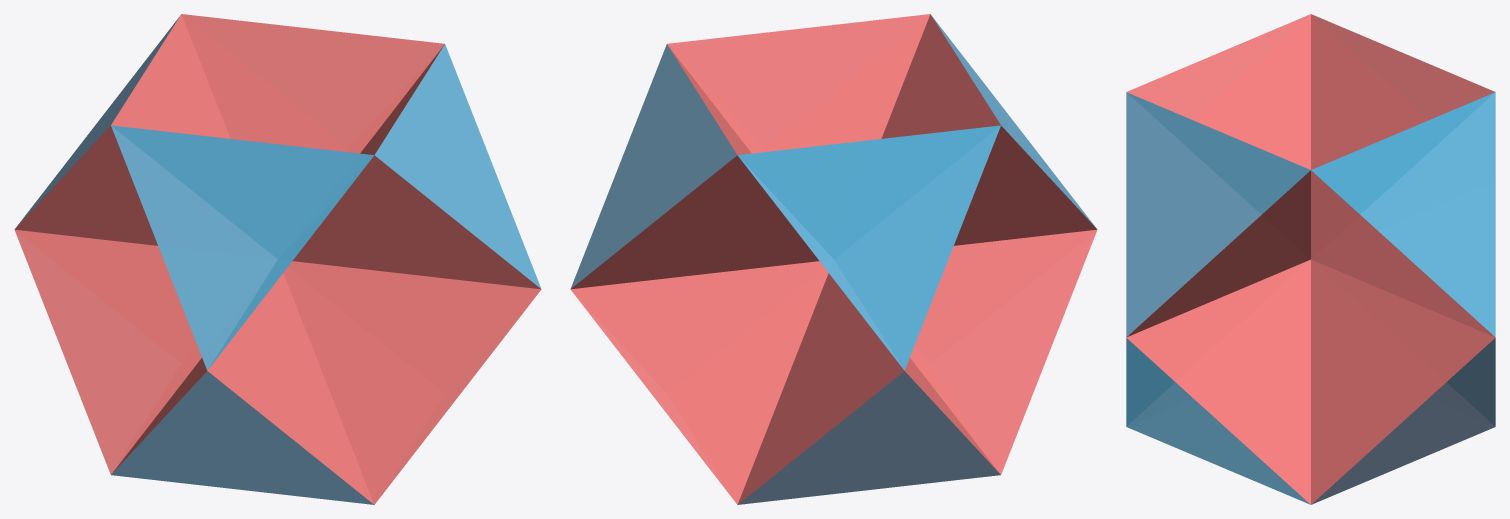
The model's file is Octahemioctahedron.obj.
3 views of the same model, side by side, from view 1: azimuth 30°, elevation 25°; view 2: azimuth 150°, elevation 25°; view 3: azimuth 270°, elevation 25° (orthographic). The views are drawn at different scales.
Size of the model in its own units: 1.41 by 1.41 by 1.41.
